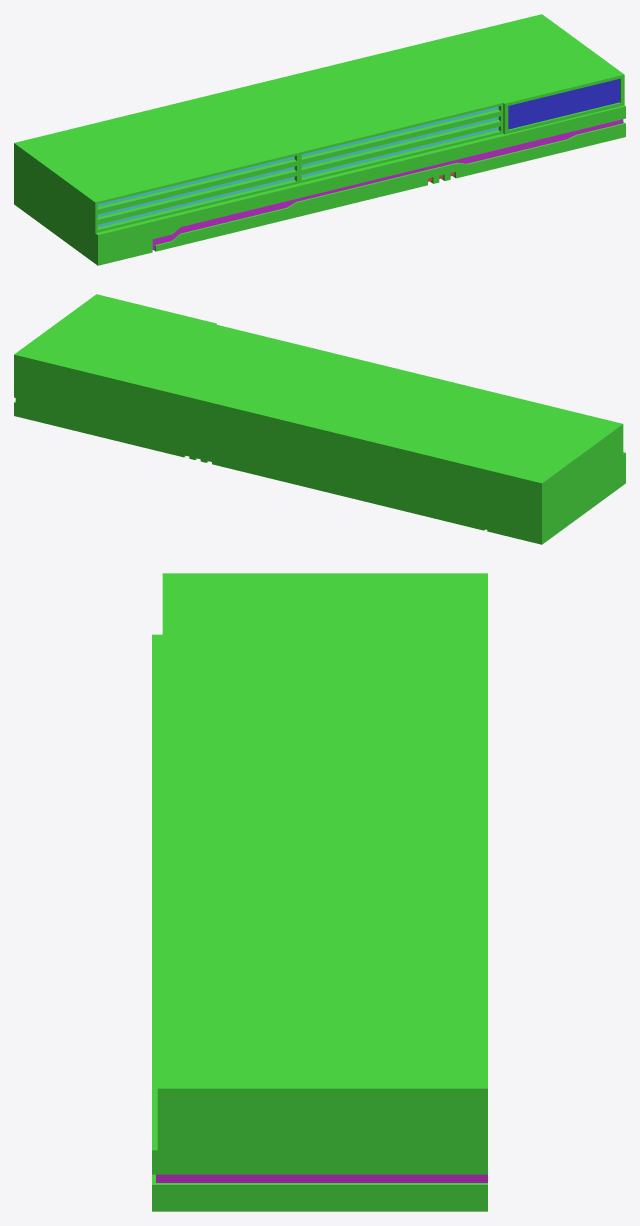
Rendered from Interior_Deco_08.fbx.
3 renders of one model, top to bottom at view 1: azimuth 30°, elevation 25°; view 2: azimuth 150°, elevation 25°; view 3: azimuth 270°, elevation 25°, orthographic. The views are drawn at different scales.
Parts seen in each view (by area): view 1: Interior_Deco_08; view 2: Interior_Deco_08; view 3: Interior_Deco_08.
Part boxes in pixels (left/top/right/bottom): Interior_Deco_08: left=14, top=14, right=625, bottom=265; Interior_Deco_08: left=14, top=294, right=625, bottom=544; Interior_Deco_08: left=152, top=573, right=487, bottom=1211.
Size of the model in its own units: 229 by 26.11 by 62.95.
